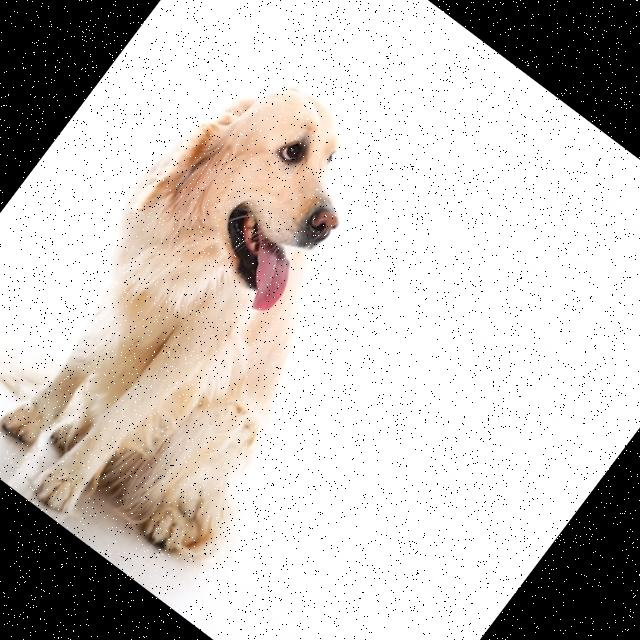Dog: (0, 46, 470, 605)
